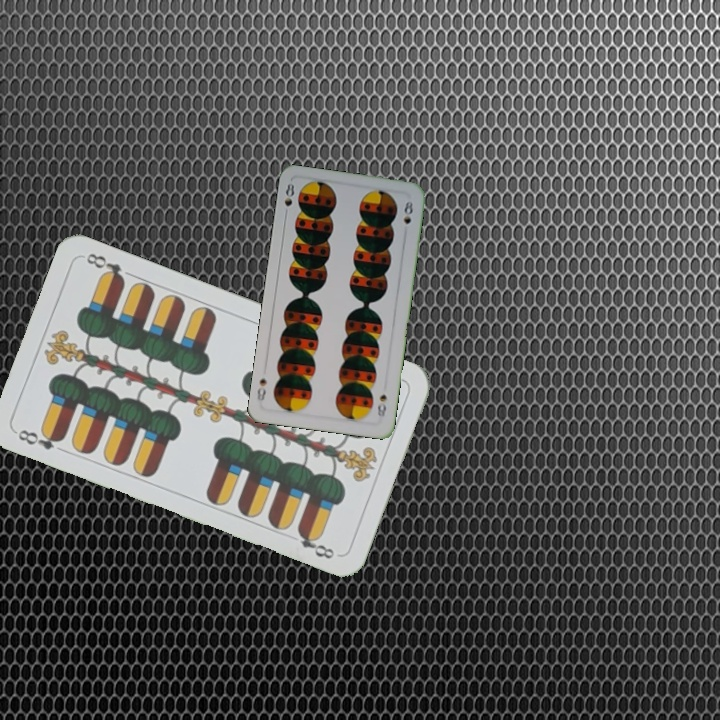E8: (13, 425, 67, 453)
S8: (280, 179, 297, 219), (373, 390, 389, 422)
